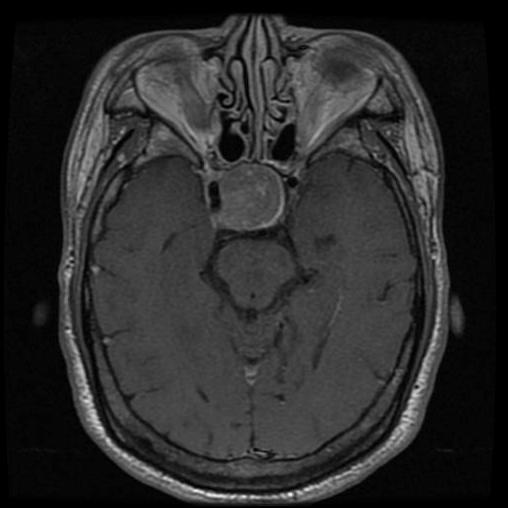Tumour-Pituitary: (189, 165, 309, 238)
